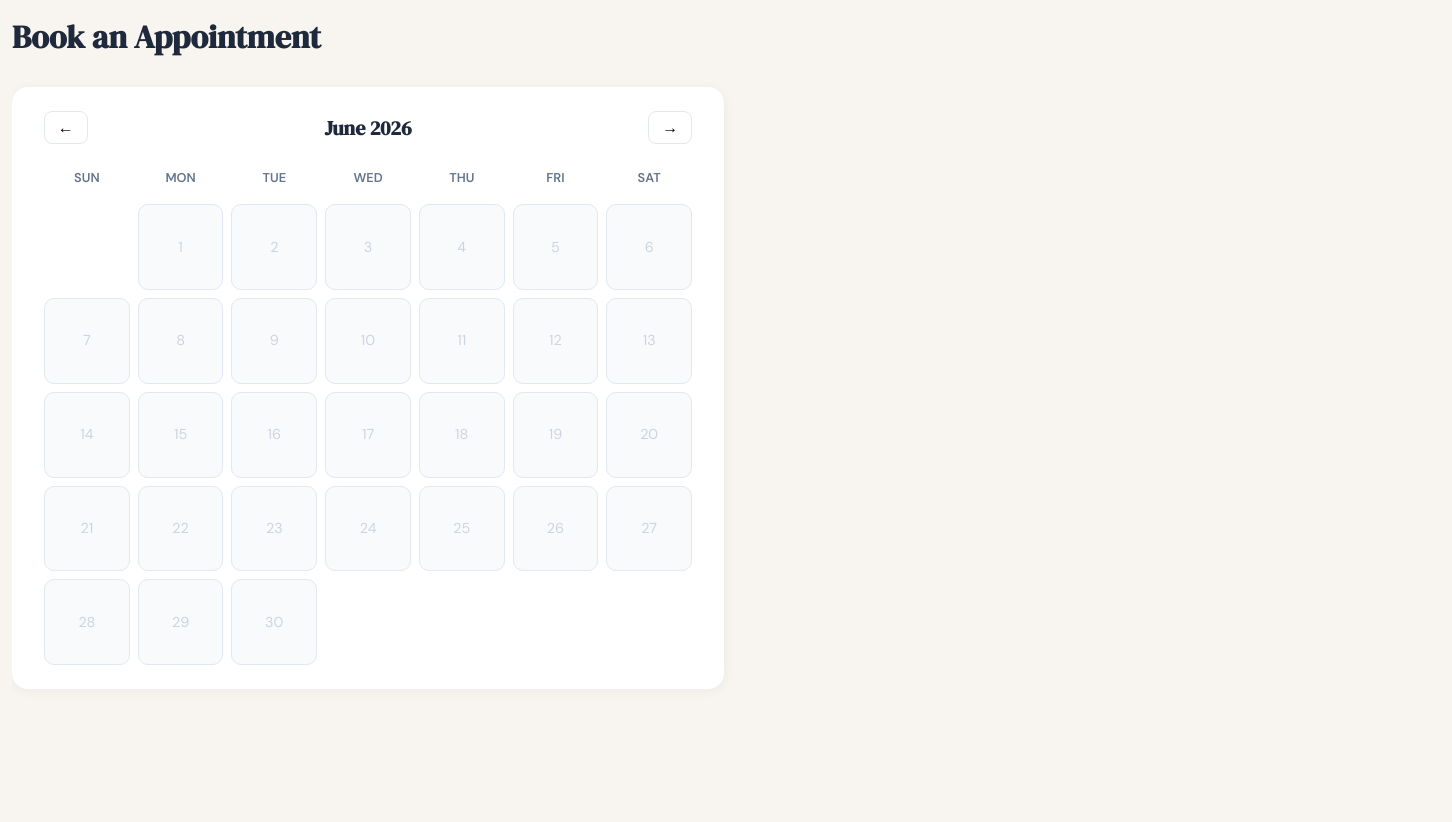
BookAppointment › displays taken slots with correct button
Note: Click a date to load slots
Click the text "15" at {"x": 181, "y": 435}, box [138,392,223,478]
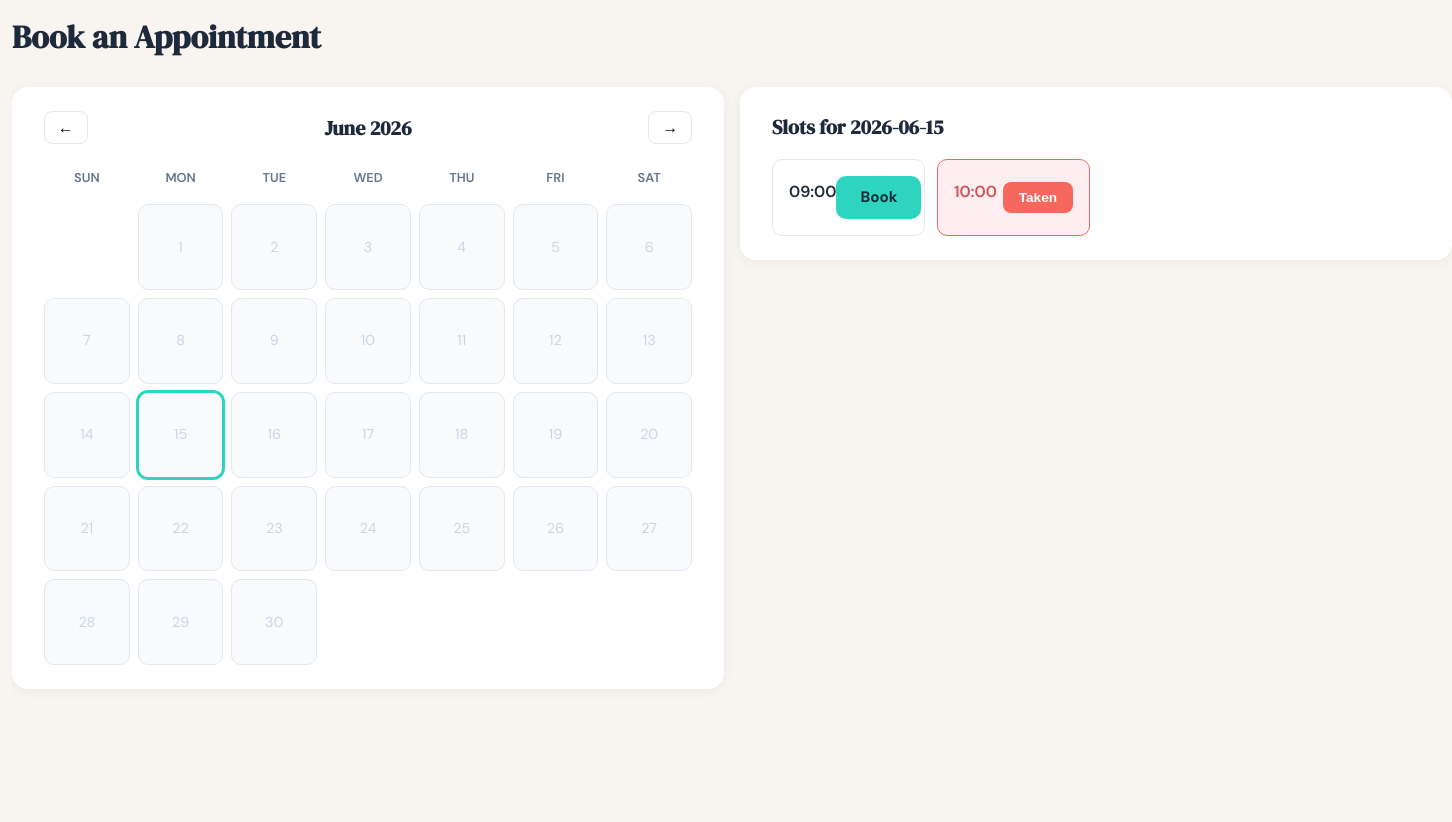
Now the button "Taken" is shown, box [1003,182,1073,213]
